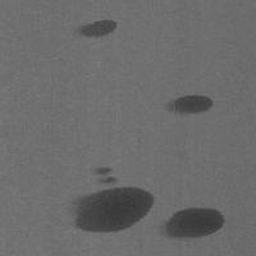Oil spot: (73, 187, 155, 233), (165, 206, 227, 239), (164, 93, 214, 115), (78, 19, 118, 38), (95, 166, 119, 184)
